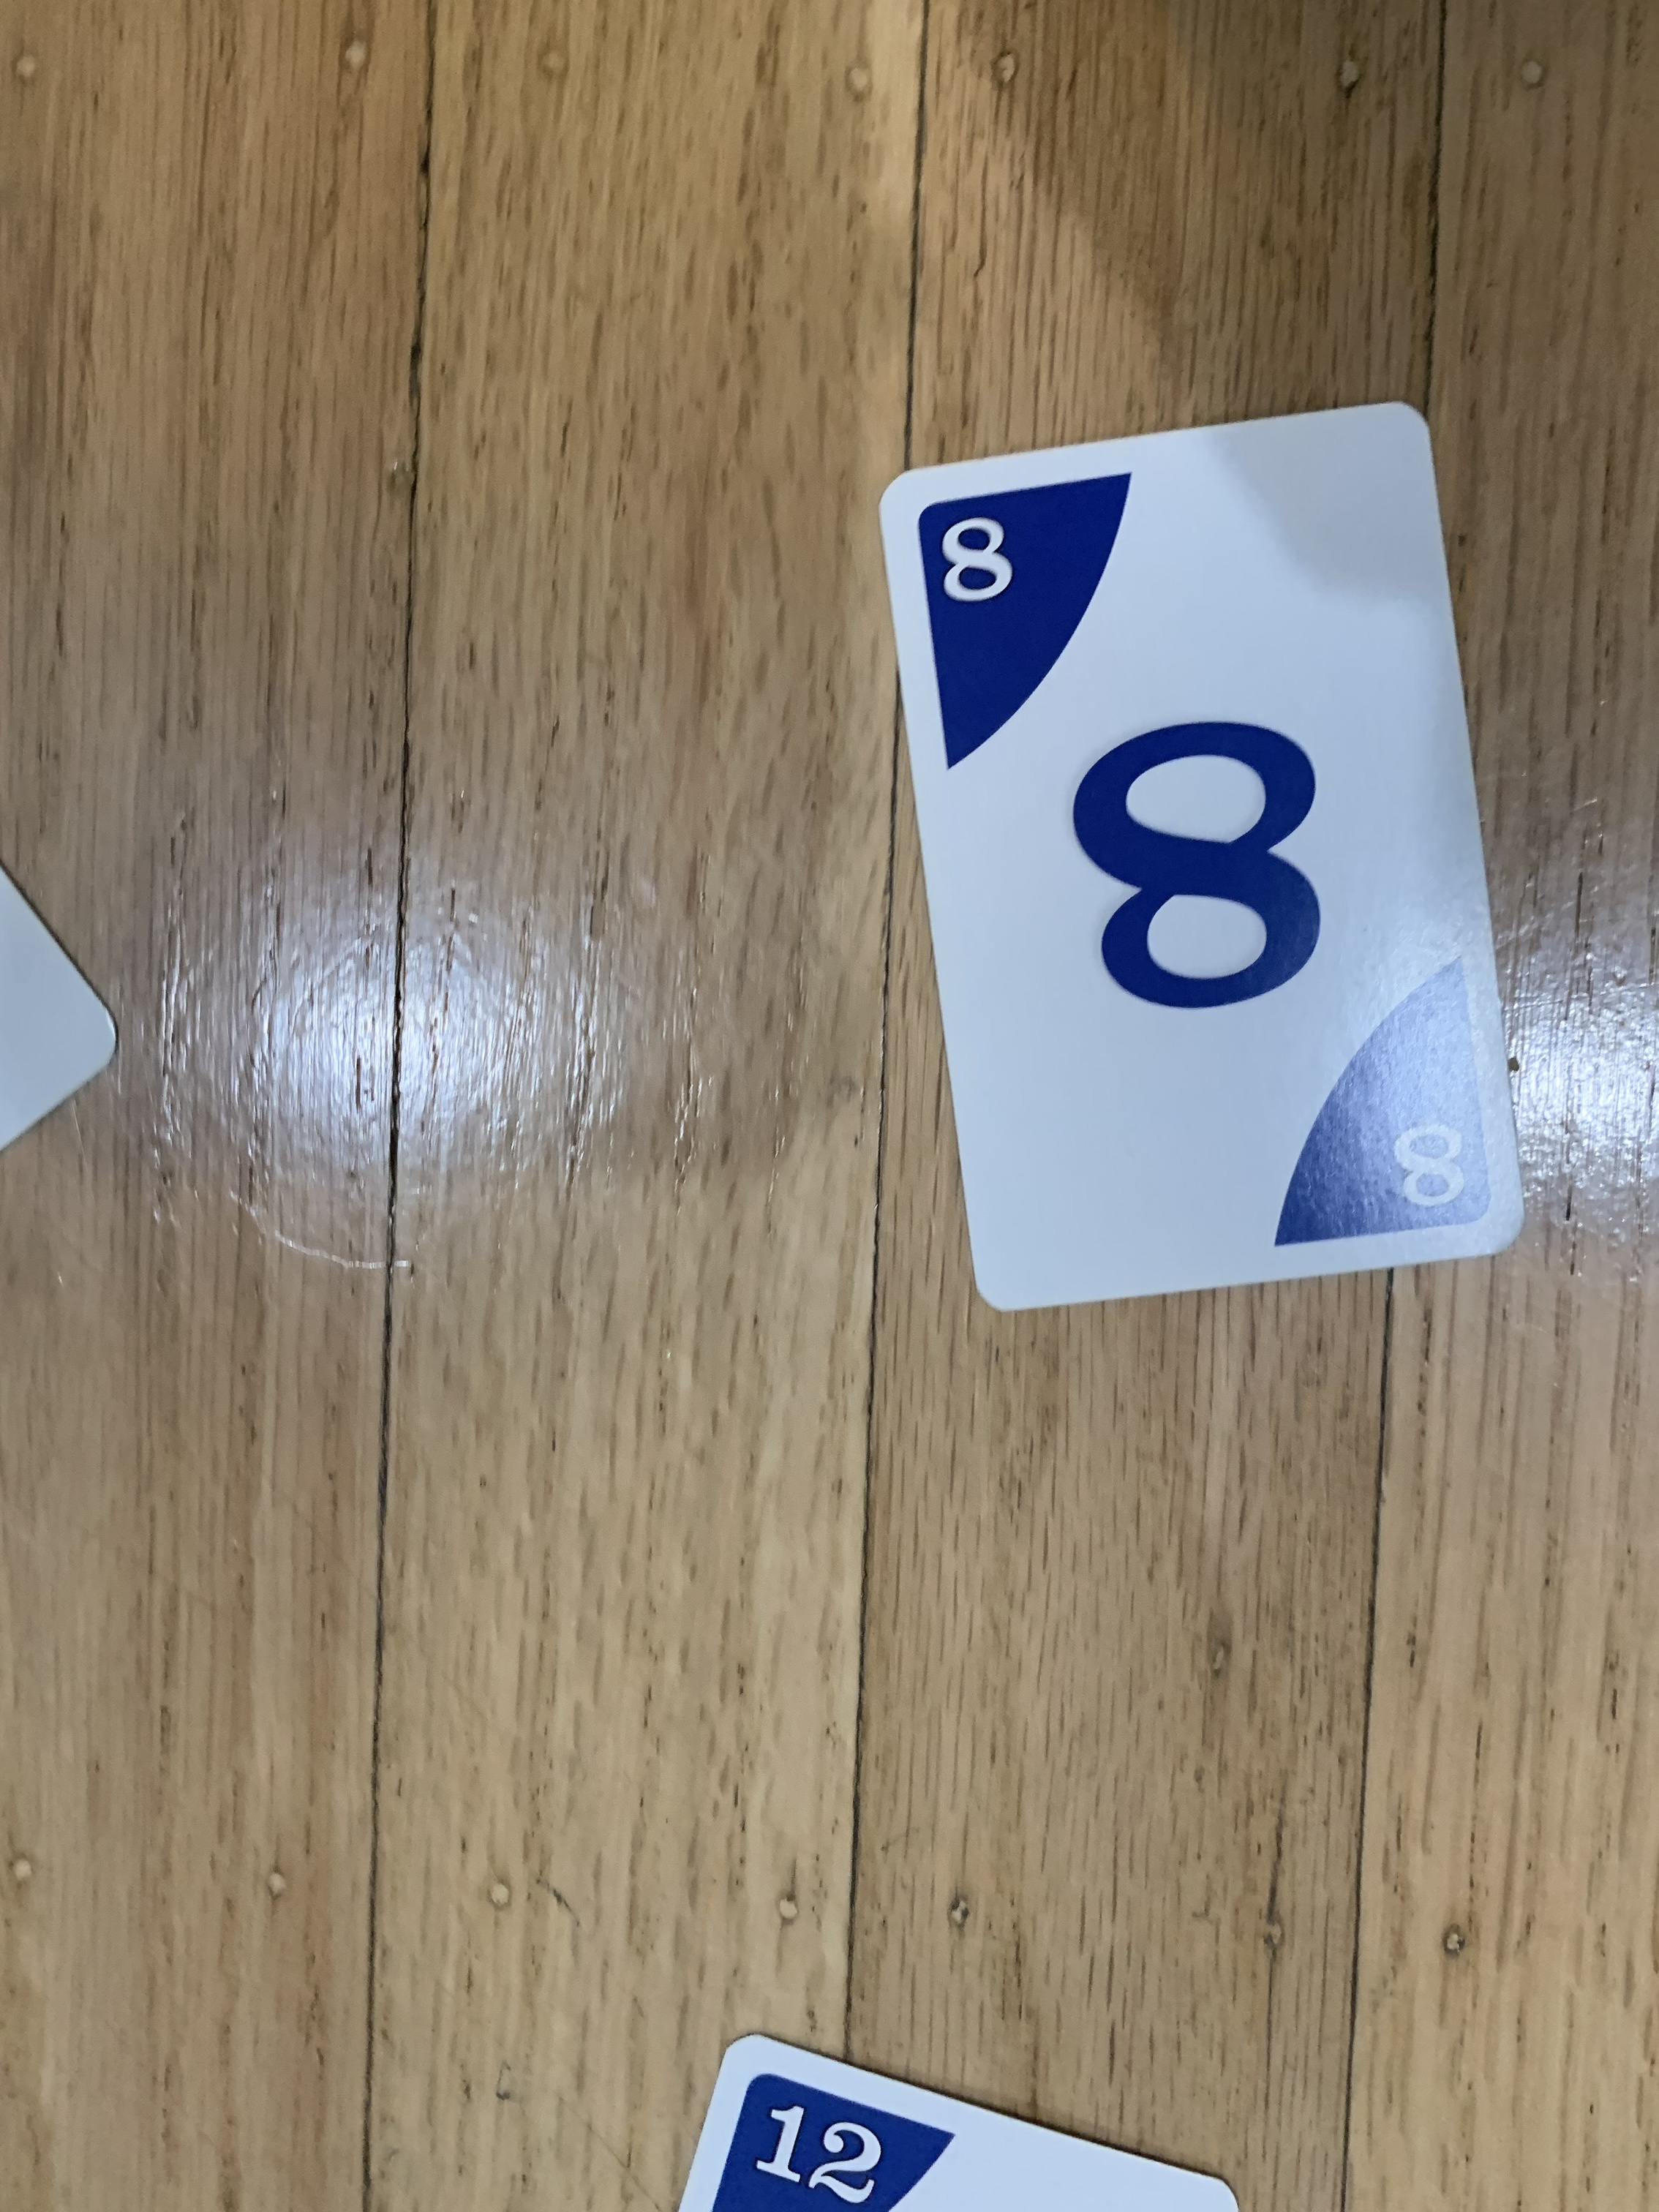eight: (870, 392, 1532, 1334)
